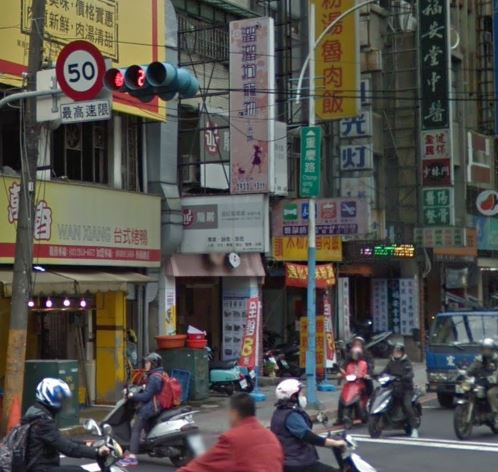Speed_limit_50km: (56, 40, 106, 100)
Traffic_light_red: (104, 61, 178, 92)
